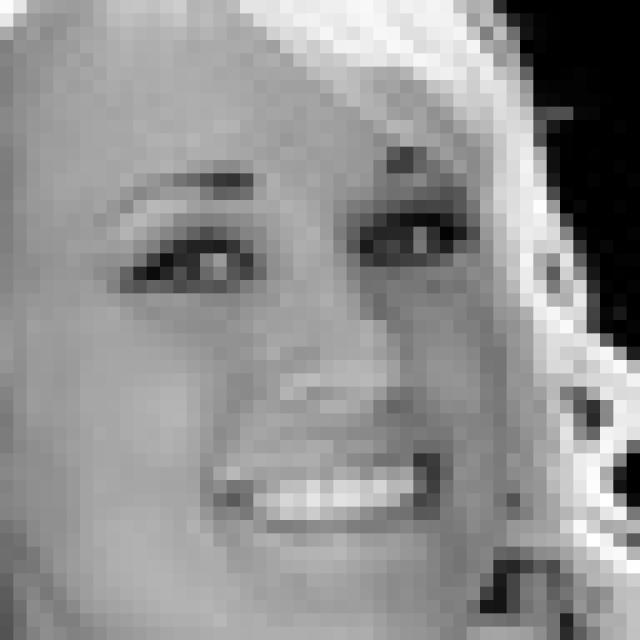happy: (97, 155, 497, 578)
